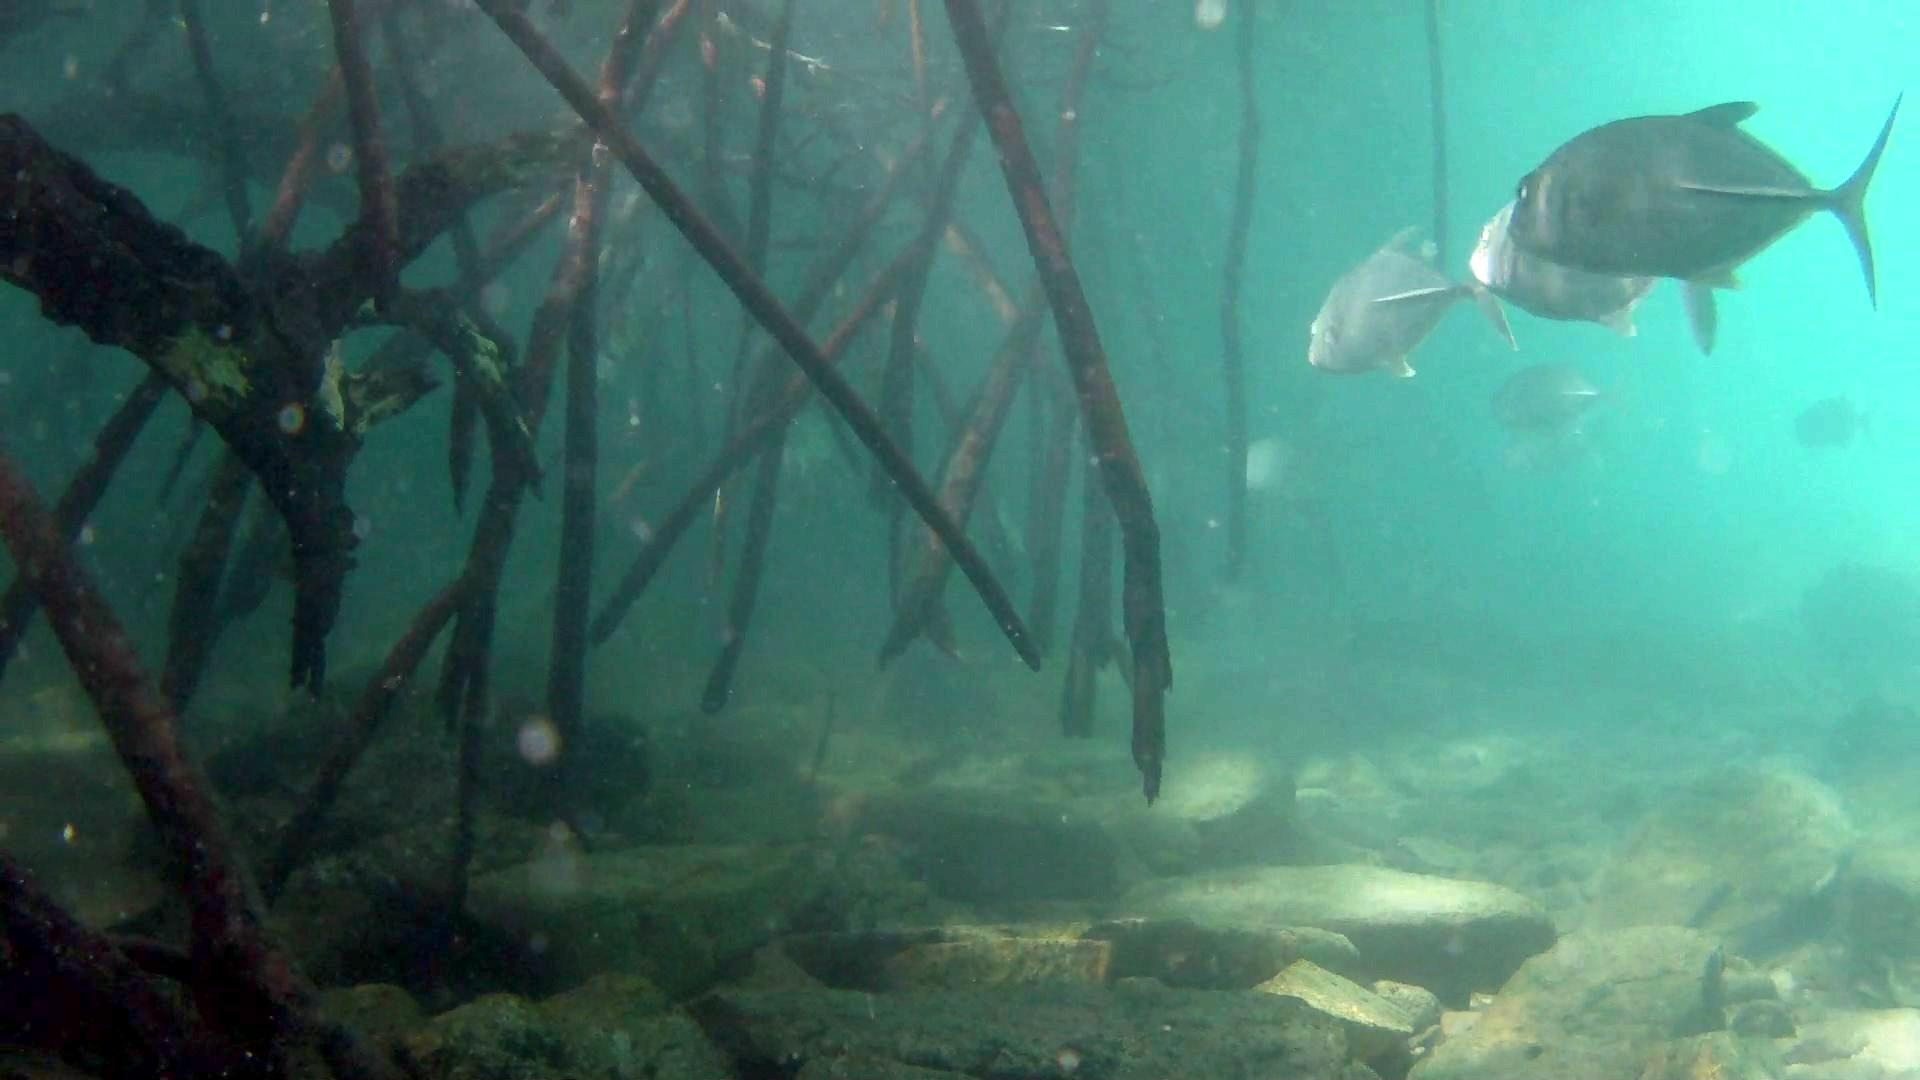caranx: (1499, 94, 1905, 315), (1300, 218, 1476, 388)
